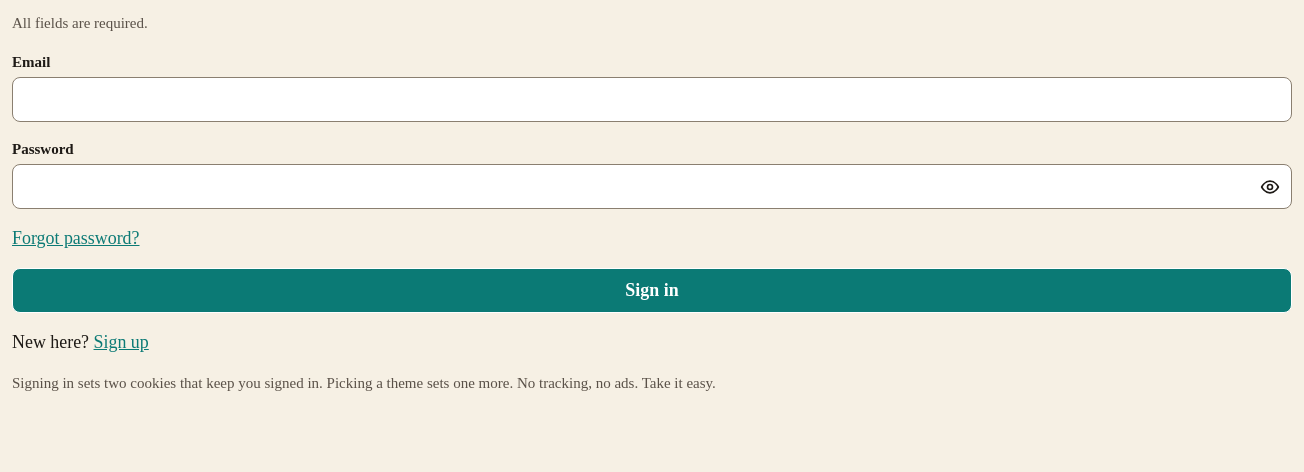
Scenario: SignInForm › shows the form error in an alert
Type "e2e-dude@example.com" into the field labelled "Email" at point(652, 99), box [12,77,1292,122]
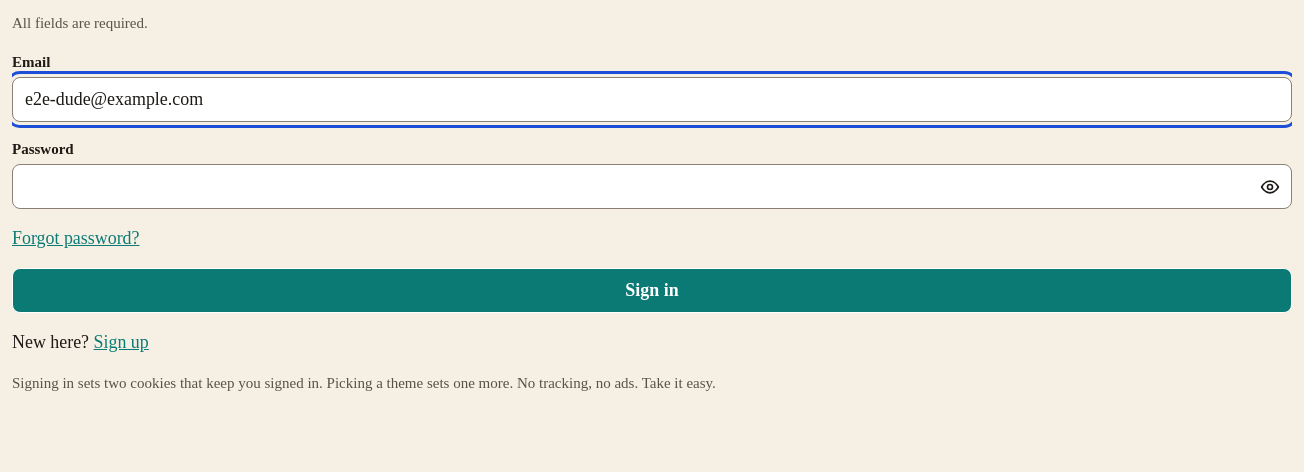
Type "not-a-real-password" into the password field labelled "Password" at point(652, 187), box [12,164,1292,209]
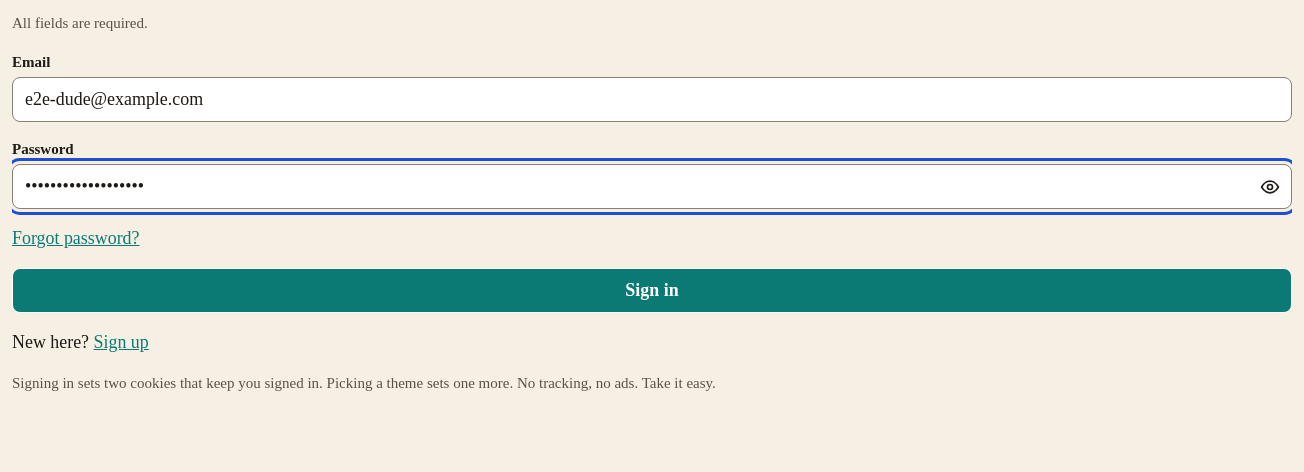
Click the button "Sign in" at point(652, 291), box [12,268,1292,313]
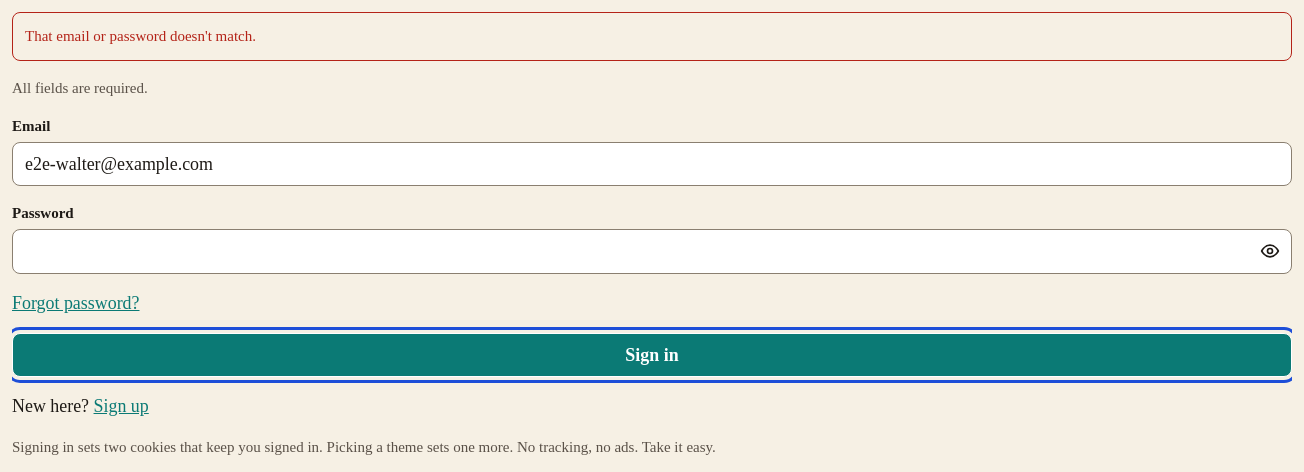
Expected: the message reads "That email or password doesn't match.", [25,28,256,44]
